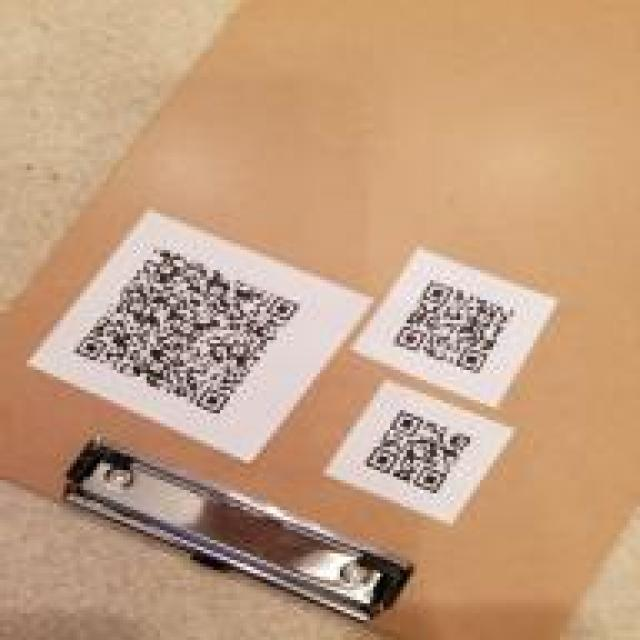QR_CODE: (65, 233, 303, 420), (388, 270, 537, 383), (350, 397, 487, 503)
